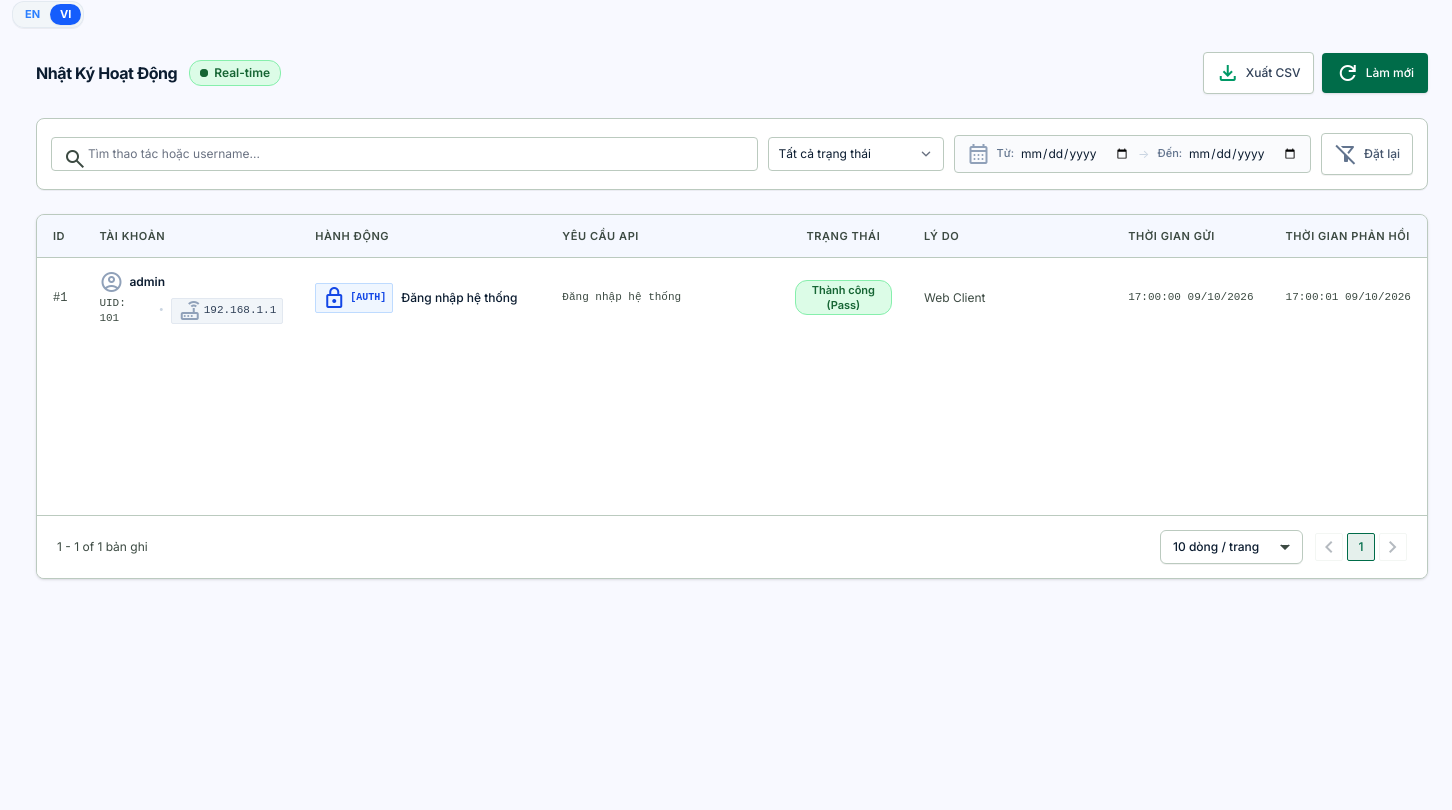
Test: Admin-web Phase 3 i18n Suite — System & Operations Pages (2-Tier Testing) › 1. AuditLogPage i18n Verification › 1.2. Tầng 2: Tác động hệ thống khi đổi sang EN — Bảng, tooltip IP, status và dropdown cập nhật đồng bộ
# Chuyển sang Tiếng Anh
Click the button with test id "lang-btn-en" at (33, 14), box x1=15 y1=4 x2=50 y2=24
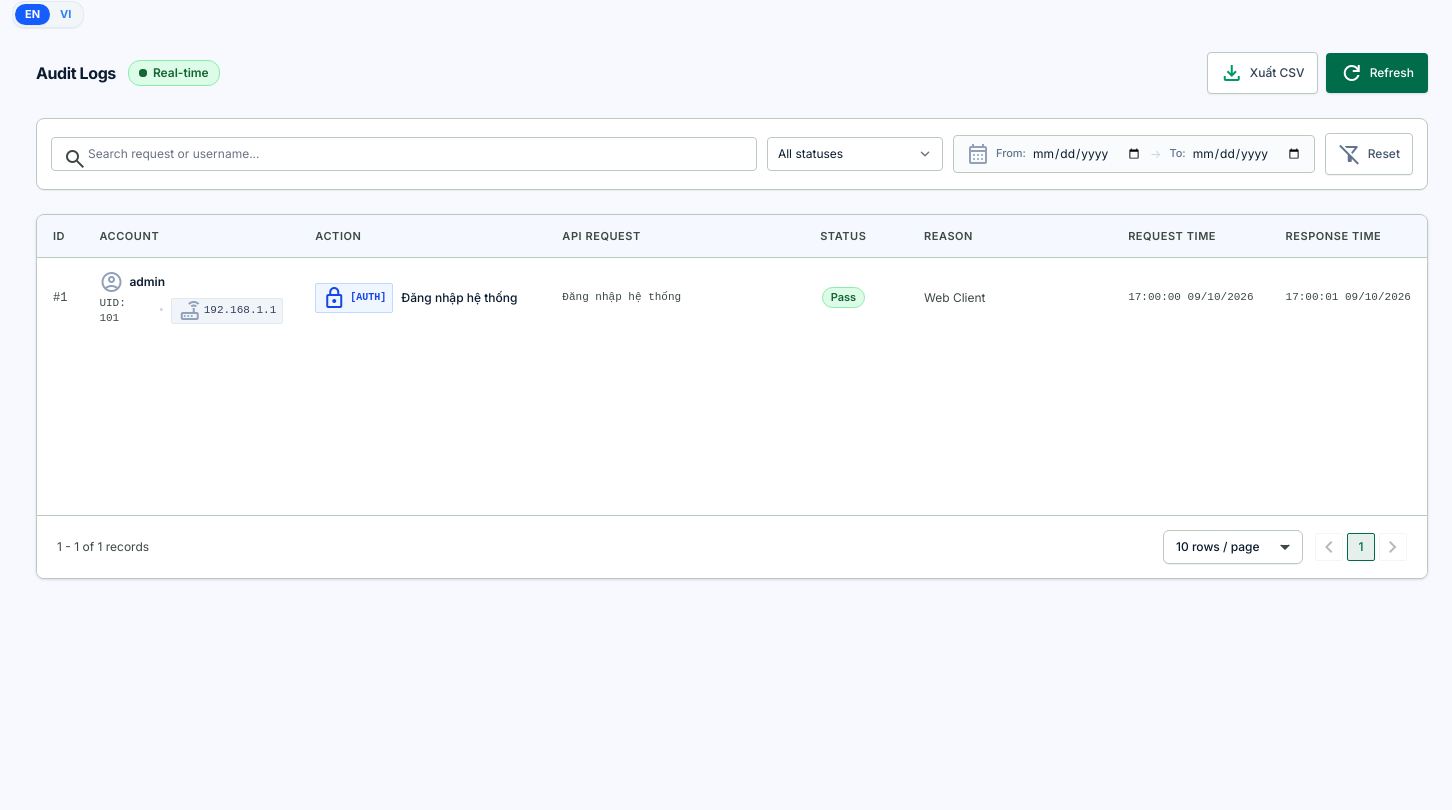
Check: the heading "Audit Logs" is shown, box x1=36 y1=60 x2=116 y2=84
Check: the field with placeholder "Search request or username..." is shown, box x1=51 y1=136 x2=757 y2=170
Check: the column heading "Action" is shown, box x1=299 y1=214 x2=546 y2=258
